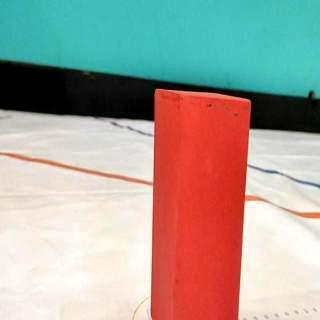redbox: (151, 87, 251, 320)
